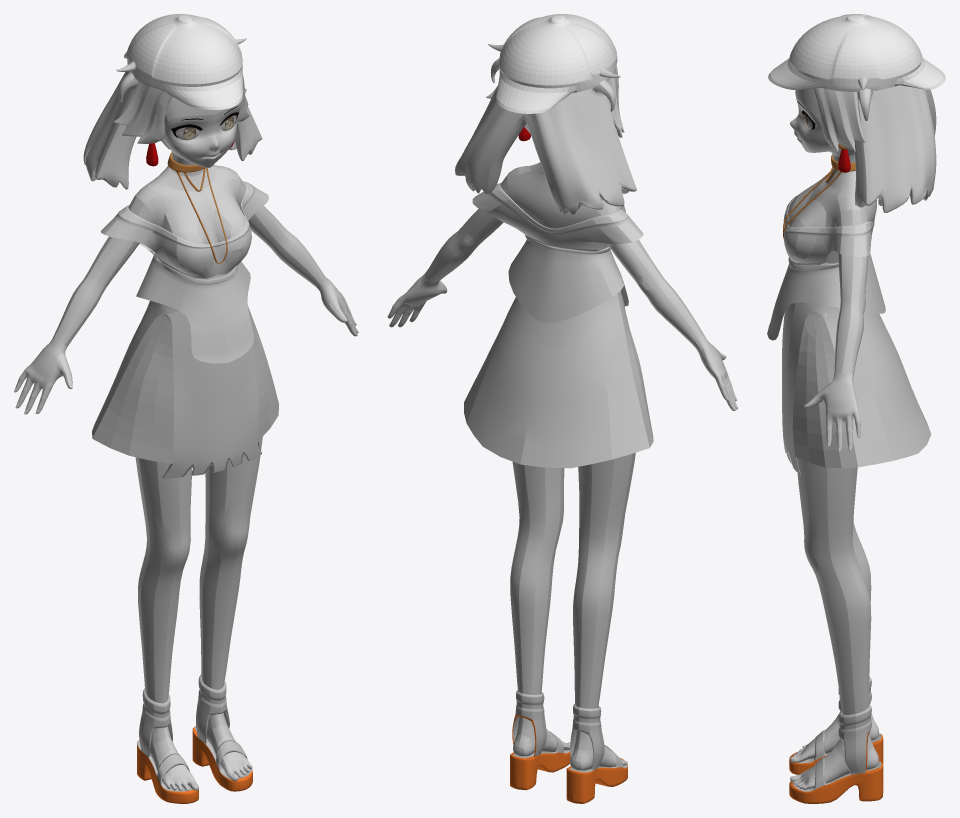
The picture shows the model from 3 angles, left to right: view 1: azimuth 30°, elevation 25°; view 2: azimuth 150°, elevation 25°; view 3: azimuth 270°, elevation 25°; orthographic projection.
Visible parts, largest first — view 1: bod, skirt, blouse, hat, pasted__back_hair, pasted__pasted__shoe1, pasted__pasted__shoe2, pasted__frontHair, collar; view 2: bod, skirt, pasted__back_hair, blouse, hat, pasted__pasted__shoe2, pasted__pasted__shoe1; view 3: bod, skirt, hat, pasted__back_hair, blouse, pasted__pasted__shoe1, pasted__frontHair, pasted__pasted__shoe2, collar.
Part boxes in pixels (box(x1,y1,x2,y2)): bod: box(14, 97, 358, 790); skirt: box(92, 300, 278, 478); blouse: box(101, 181, 268, 363); hat: box(124, 14, 243, 109); pasted__back_hair: box(83, 38, 262, 189); pasted__pasted__shoe1: box(192, 674, 252, 791); pasted__pasted__shoe2: box(137, 688, 198, 803); pasted__frontHair: box(114, 74, 249, 143); collar: box(167, 152, 227, 264); bod: box(387, 162, 738, 770); skirt: box(464, 291, 653, 468); pasted__back_hair: box(455, 44, 636, 215); blouse: box(472, 182, 643, 323); hat: box(496, 14, 617, 113); pasted__pasted__shoe2: box(566, 704, 627, 803); pasted__pasted__shoe1: box(510, 690, 570, 790); bod: box(788, 88, 879, 789); skirt: box(782, 302, 931, 475); hat: box(768, 14, 945, 91); pasted__back_hair: box(854, 76, 936, 212); blouse: box(767, 194, 885, 340); pasted__pasted__shoe1: box(789, 704, 883, 803); pasted__frontHair: box(813, 87, 865, 151); pasted__pasted__shoe2: box(789, 676, 883, 774); collar: box(783, 155, 855, 237).
Size of the model in its own units: 8.82 by 18.67 by 3.95.
